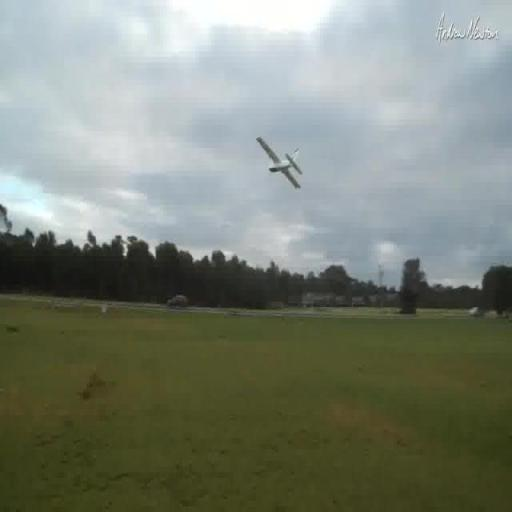uav: (246, 124, 309, 208)
